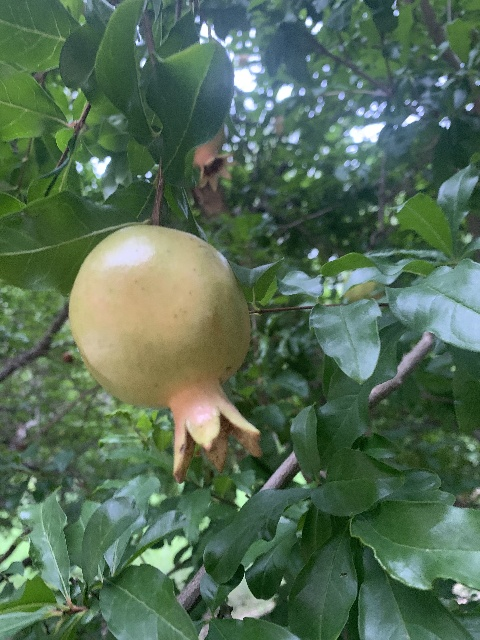mid-growth: (67, 223, 262, 483)
